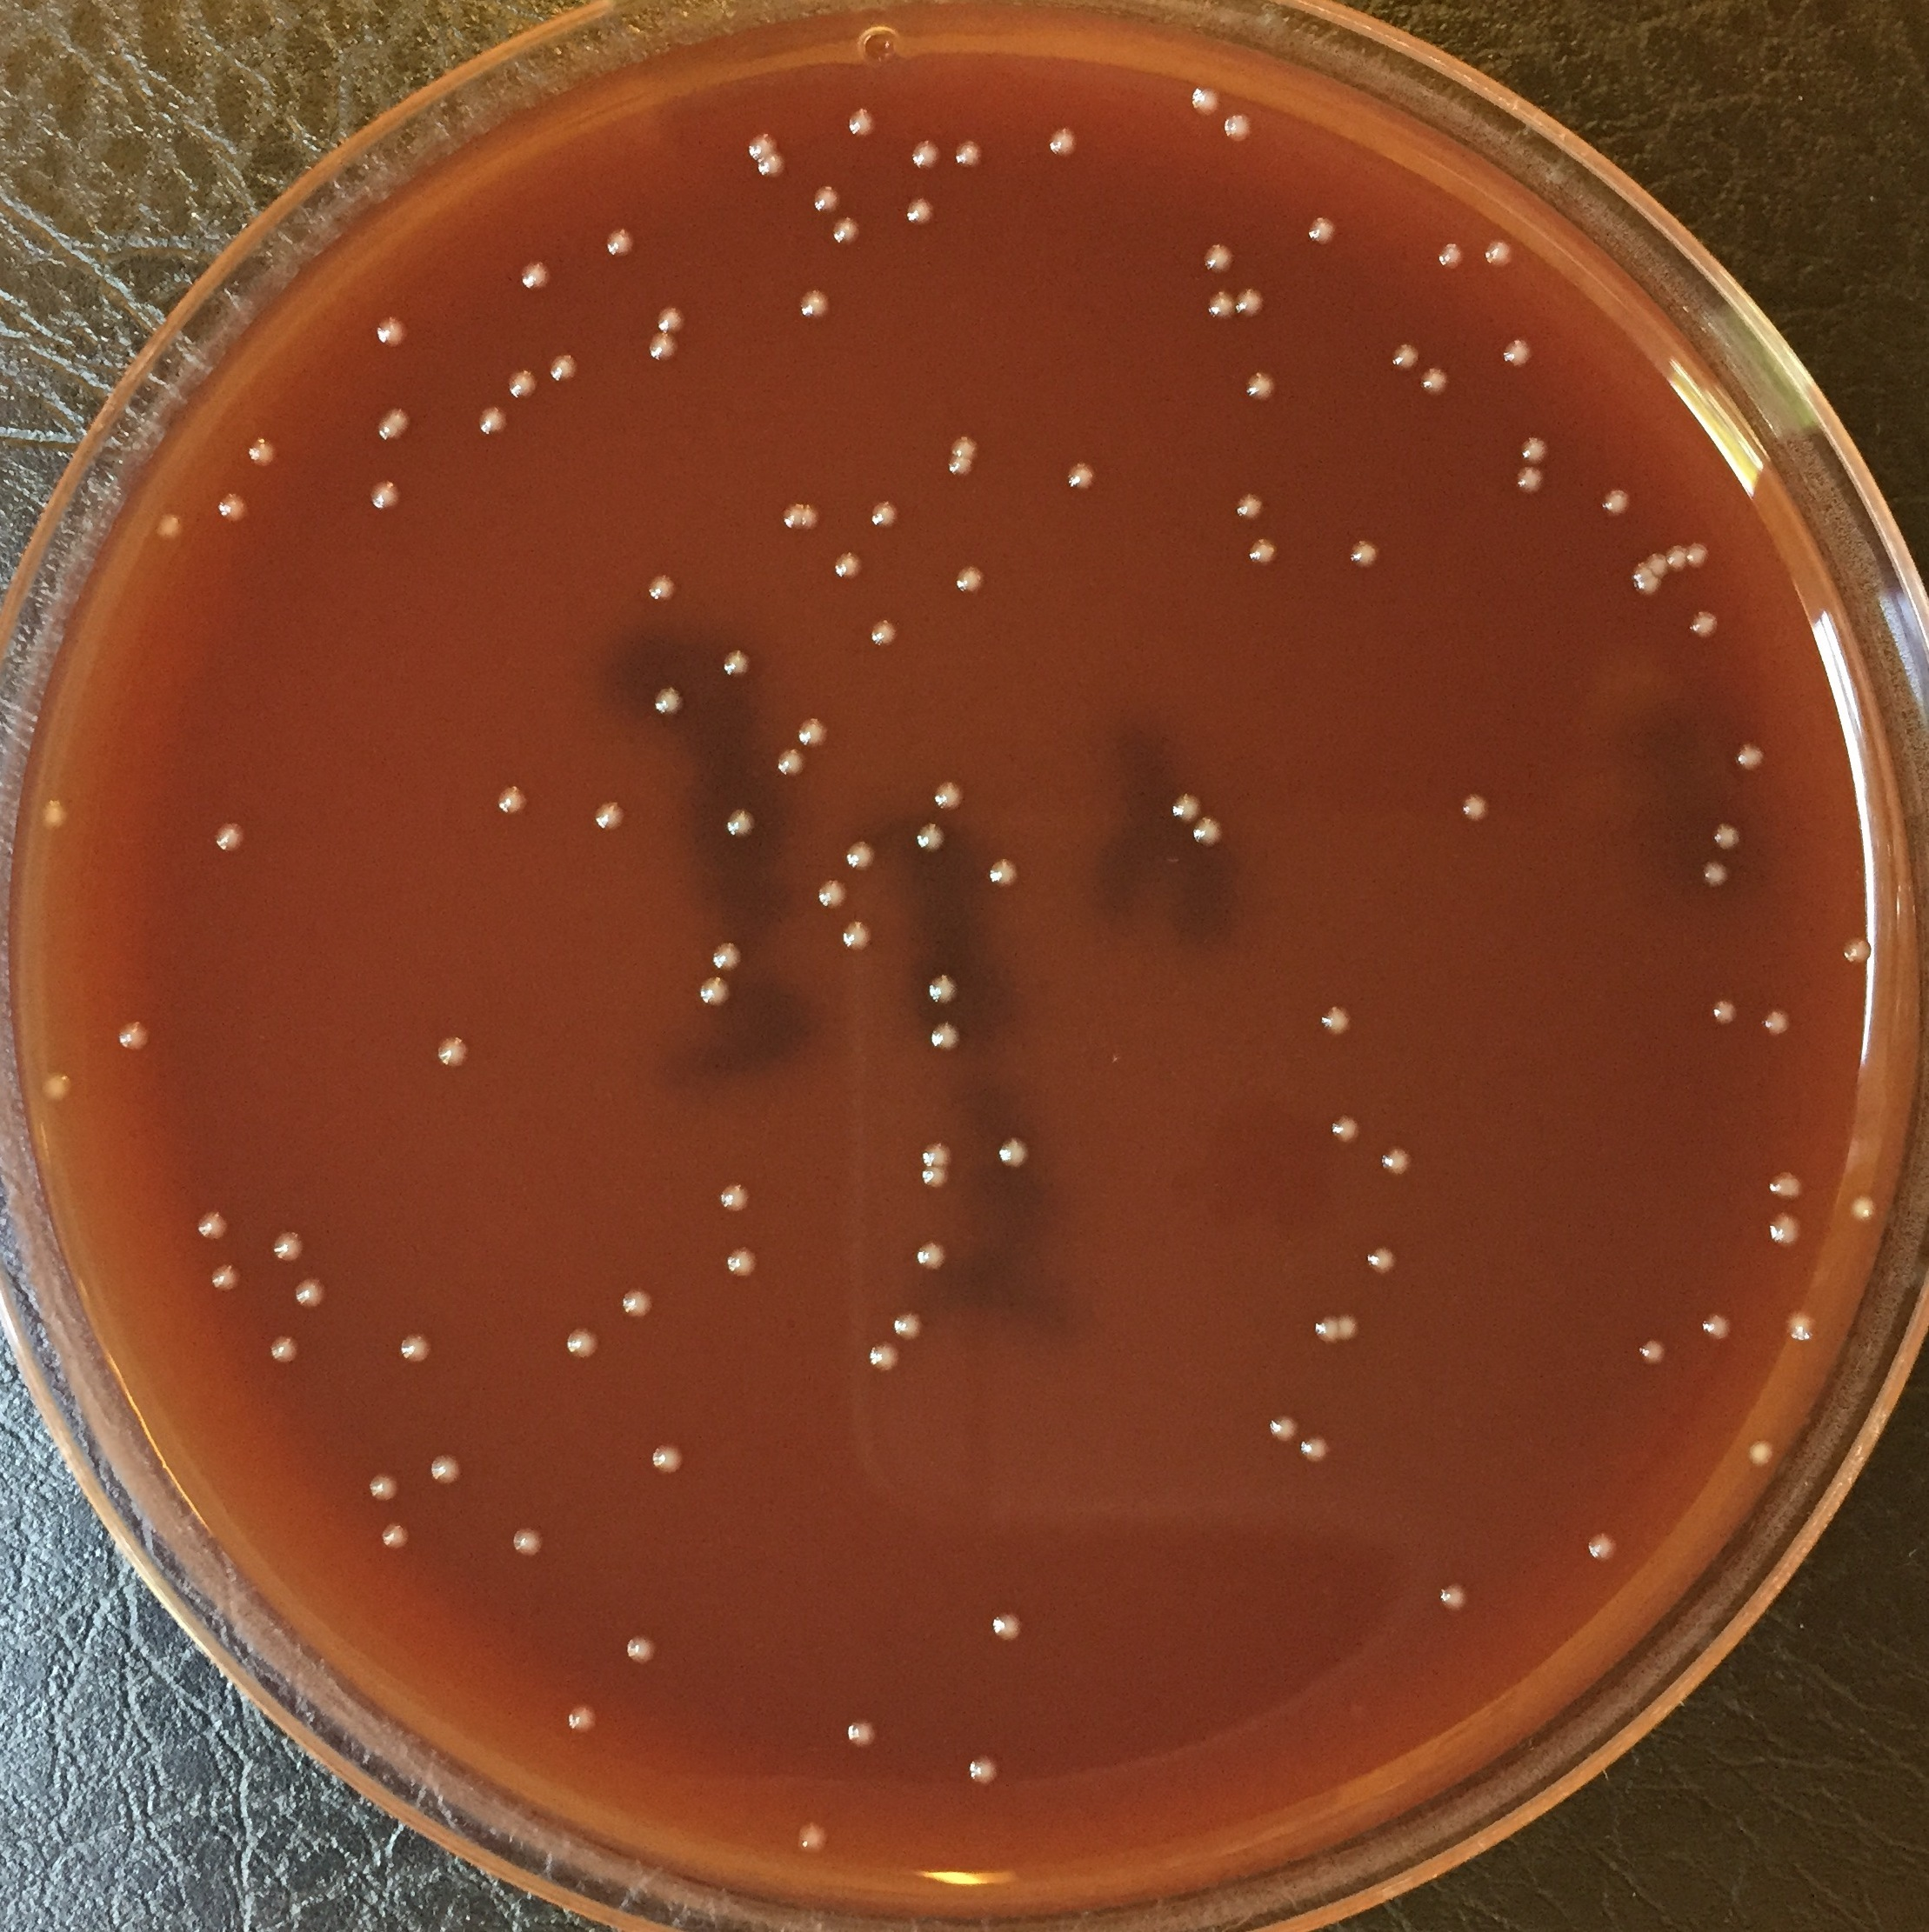sp06: (1459, 789, 1507, 839), (1475, 230, 1523, 274), (1765, 1166, 1812, 1206), (1242, 366, 1297, 401), (371, 311, 412, 353), (374, 403, 415, 445), (491, 782, 532, 823), (207, 819, 249, 858), (620, 1284, 661, 1323), (1376, 1141, 1415, 1180), (1189, 81, 1228, 120), (650, 1438, 689, 1476), (426, 1450, 465, 1489), (588, 796, 629, 834), (1217, 109, 1256, 147), (1191, 814, 1228, 853), (435, 1033, 473, 1070), (816, 872, 851, 913), (867, 1337, 903, 1377), (724, 1243, 760, 1284), (509, 1528, 549, 1563), (113, 1021, 154, 1056), (147, 510, 187, 546), (362, 1469, 399, 1506), (795, 712, 830, 751), (915, 1236, 950, 1275), (1765, 1211, 1802, 1247), (1231, 284, 1267, 321), (650, 683, 685, 721), (726, 805, 761, 842), (774, 743, 809, 781), (839, 918, 874, 955), (562, 1326, 597, 1363), (269, 1229, 306, 1264), (867, 615, 901, 653), (696, 975, 737, 1007), (1417, 366, 1452, 401), (624, 1632, 659, 1667), (475, 401, 511, 436), (367, 479, 403, 514), (966, 1754, 1003, 1787), (795, 1817, 828, 1854), (1782, 1307, 1816, 1344), (1346, 535, 1383, 569), (1245, 535, 1282, 569), (830, 553, 867, 586), (929, 1019, 963, 1056), (1634, 562, 1666, 600), (1201, 240, 1235, 275), (987, 855, 1023, 888), (293, 1275, 329, 1309), (194, 1208, 230, 1241), (1328, 1113, 1362, 1146), (1063, 461, 1097, 494), (1388, 341, 1422, 374), (1305, 215, 1339, 249), (843, 839, 876, 872), (1689, 608, 1721, 643), (1436, 238, 1468, 274), (903, 196, 938, 228), (809, 184, 844, 215), (645, 572, 680, 604), (717, 1181, 753, 1213), (37, 793, 69, 828), (998, 1136, 1028, 1173), (892, 1309, 922, 1346), (396, 1332, 433, 1362), (242, 438, 279, 468), (1586, 1529, 1620, 1561), (1364, 1243, 1397, 1275), (1699, 1309, 1731, 1342), (1321, 1001, 1355, 1033), (1759, 1008, 1793, 1040), (1701, 857, 1733, 890), (1512, 464, 1546, 496), (602, 228, 636, 260), (648, 332, 682, 364), (505, 369, 537, 403), (934, 777, 966, 811), (915, 819, 947, 853), (710, 940, 742, 973), (267, 1333, 300, 1365), (1044, 125, 1079, 155), (797, 288, 832, 318), (1853, 1190, 1878, 1233), (207, 1264, 244, 1293), (991, 1609, 1023, 1641), (844, 1717, 876, 1748), (1268, 1411, 1300, 1443), (1438, 1581, 1470, 1612), (1712, 821, 1744, 853), (908, 140, 940, 171), (830, 215, 862, 247), (867, 498, 899, 530), (927, 971, 959, 1003), (214, 491, 246, 523), (1207, 288, 1235, 323), (745, 131, 781, 159), (564, 1704, 595, 1734), (1841, 936, 1872, 966), (844, 108, 876, 138), (655, 304, 685, 336), (546, 353, 578, 383), (920, 1137, 950, 1169), (380, 1521, 412, 1551), (1300, 1432, 1330, 1462), (1171, 791, 1201, 821), (39, 1070, 69, 1100), (1660, 542, 1689, 574), (1503, 337, 1535, 366), (952, 140, 984, 168), (756, 152, 788, 180), (519, 260, 548, 291), (1337, 1309, 1362, 1344), (1747, 1438, 1775, 1468), (1733, 742, 1763, 770), (1233, 493, 1263, 521), (922, 1164, 950, 1194), (1312, 1314, 1339, 1346), (1600, 487, 1632, 514), (947, 433, 979, 459), (719, 648, 751, 675), (1638, 1339, 1671, 1363), (1519, 436, 1549, 463), (956, 569, 986, 595), (777, 502, 804, 532), (798, 502, 825, 532), (1683, 539, 1708, 570), (1710, 998, 1735, 1026), (947, 454, 970, 480), (1652, 551, 1671, 574)
